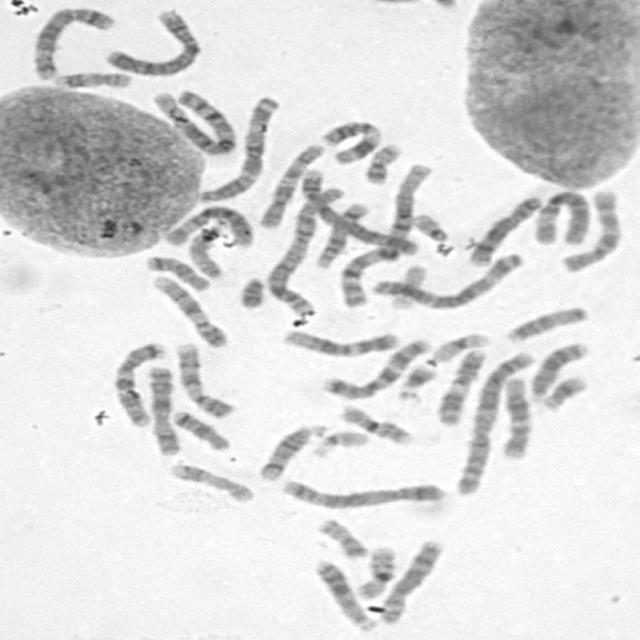A1: (334, 158, 435, 310), (147, 85, 240, 157)
A2: (451, 347, 538, 497), (260, 179, 348, 315)
A3: (193, 93, 281, 202), (377, 248, 528, 311)
B4: (293, 163, 424, 258), (100, 5, 204, 77)
B5: (27, 2, 118, 82), (275, 475, 448, 510)
C10: (253, 139, 327, 229), (557, 185, 625, 273)
C11: (433, 345, 490, 427), (316, 116, 386, 165)
C12: (278, 326, 404, 358), (495, 373, 534, 460)
C6: (160, 201, 258, 250), (530, 187, 594, 247)
C7: (320, 334, 436, 401), (107, 337, 169, 429)
C8: (376, 536, 448, 626), (464, 191, 545, 268)
C9: (147, 271, 230, 349), (170, 338, 237, 419)
D13: (310, 556, 379, 633), (526, 338, 592, 402)
D14: (256, 420, 330, 482), (310, 198, 372, 269)
D15: (501, 302, 591, 344), (184, 224, 228, 279)
E16: (334, 401, 416, 446), (350, 542, 399, 601)
E17: (164, 459, 258, 504), (50, 66, 135, 90)
E18: (166, 405, 232, 452), (140, 251, 214, 292)
F19: (385, 260, 430, 311), (428, 329, 493, 364)
F20: (312, 514, 371, 560), (360, 140, 404, 185)
G21: (538, 372, 592, 412), (391, 359, 440, 402)
G22: (308, 427, 370, 459), (408, 210, 452, 242)
X: (143, 362, 181, 456)
Y: (235, 273, 268, 310)
